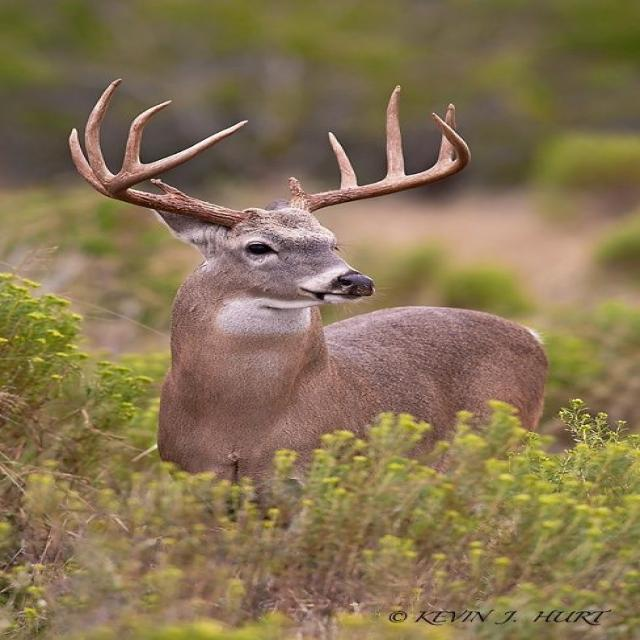L-F: (290, 112, 471, 212)
L-G1: (286, 176, 308, 199)
L-G2: (327, 132, 358, 189)
L-G3: (382, 85, 407, 181)
R-F: (101, 119, 253, 228)
R-G1: (150, 178, 187, 197)
R-G3: (84, 77, 124, 184)
R-G4: (118, 100, 172, 174)
